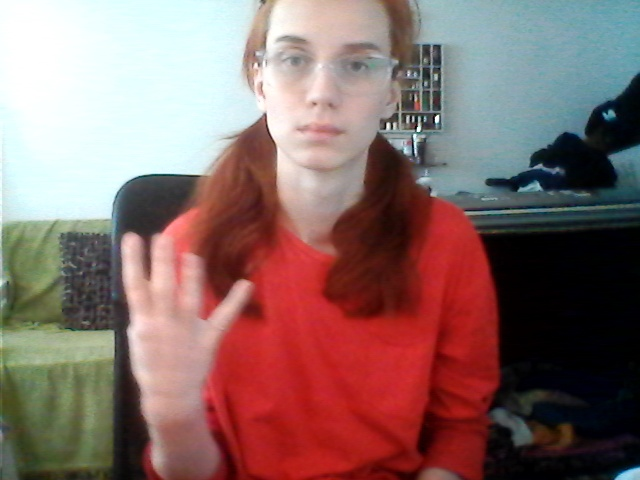kedy: (94, 231, 261, 396)
